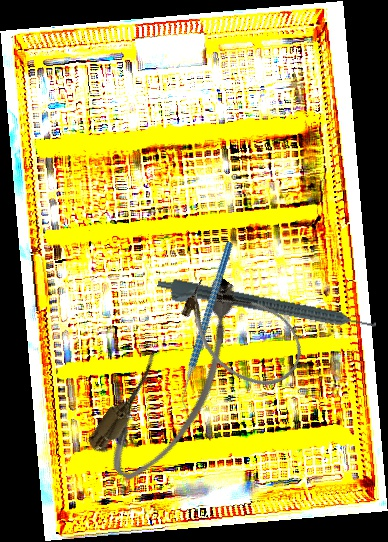Cannula: (82, 267, 271, 492), (166, 264, 317, 403)
Chopper: (131, 240, 285, 415)
Handpiece: (154, 276, 378, 342)
